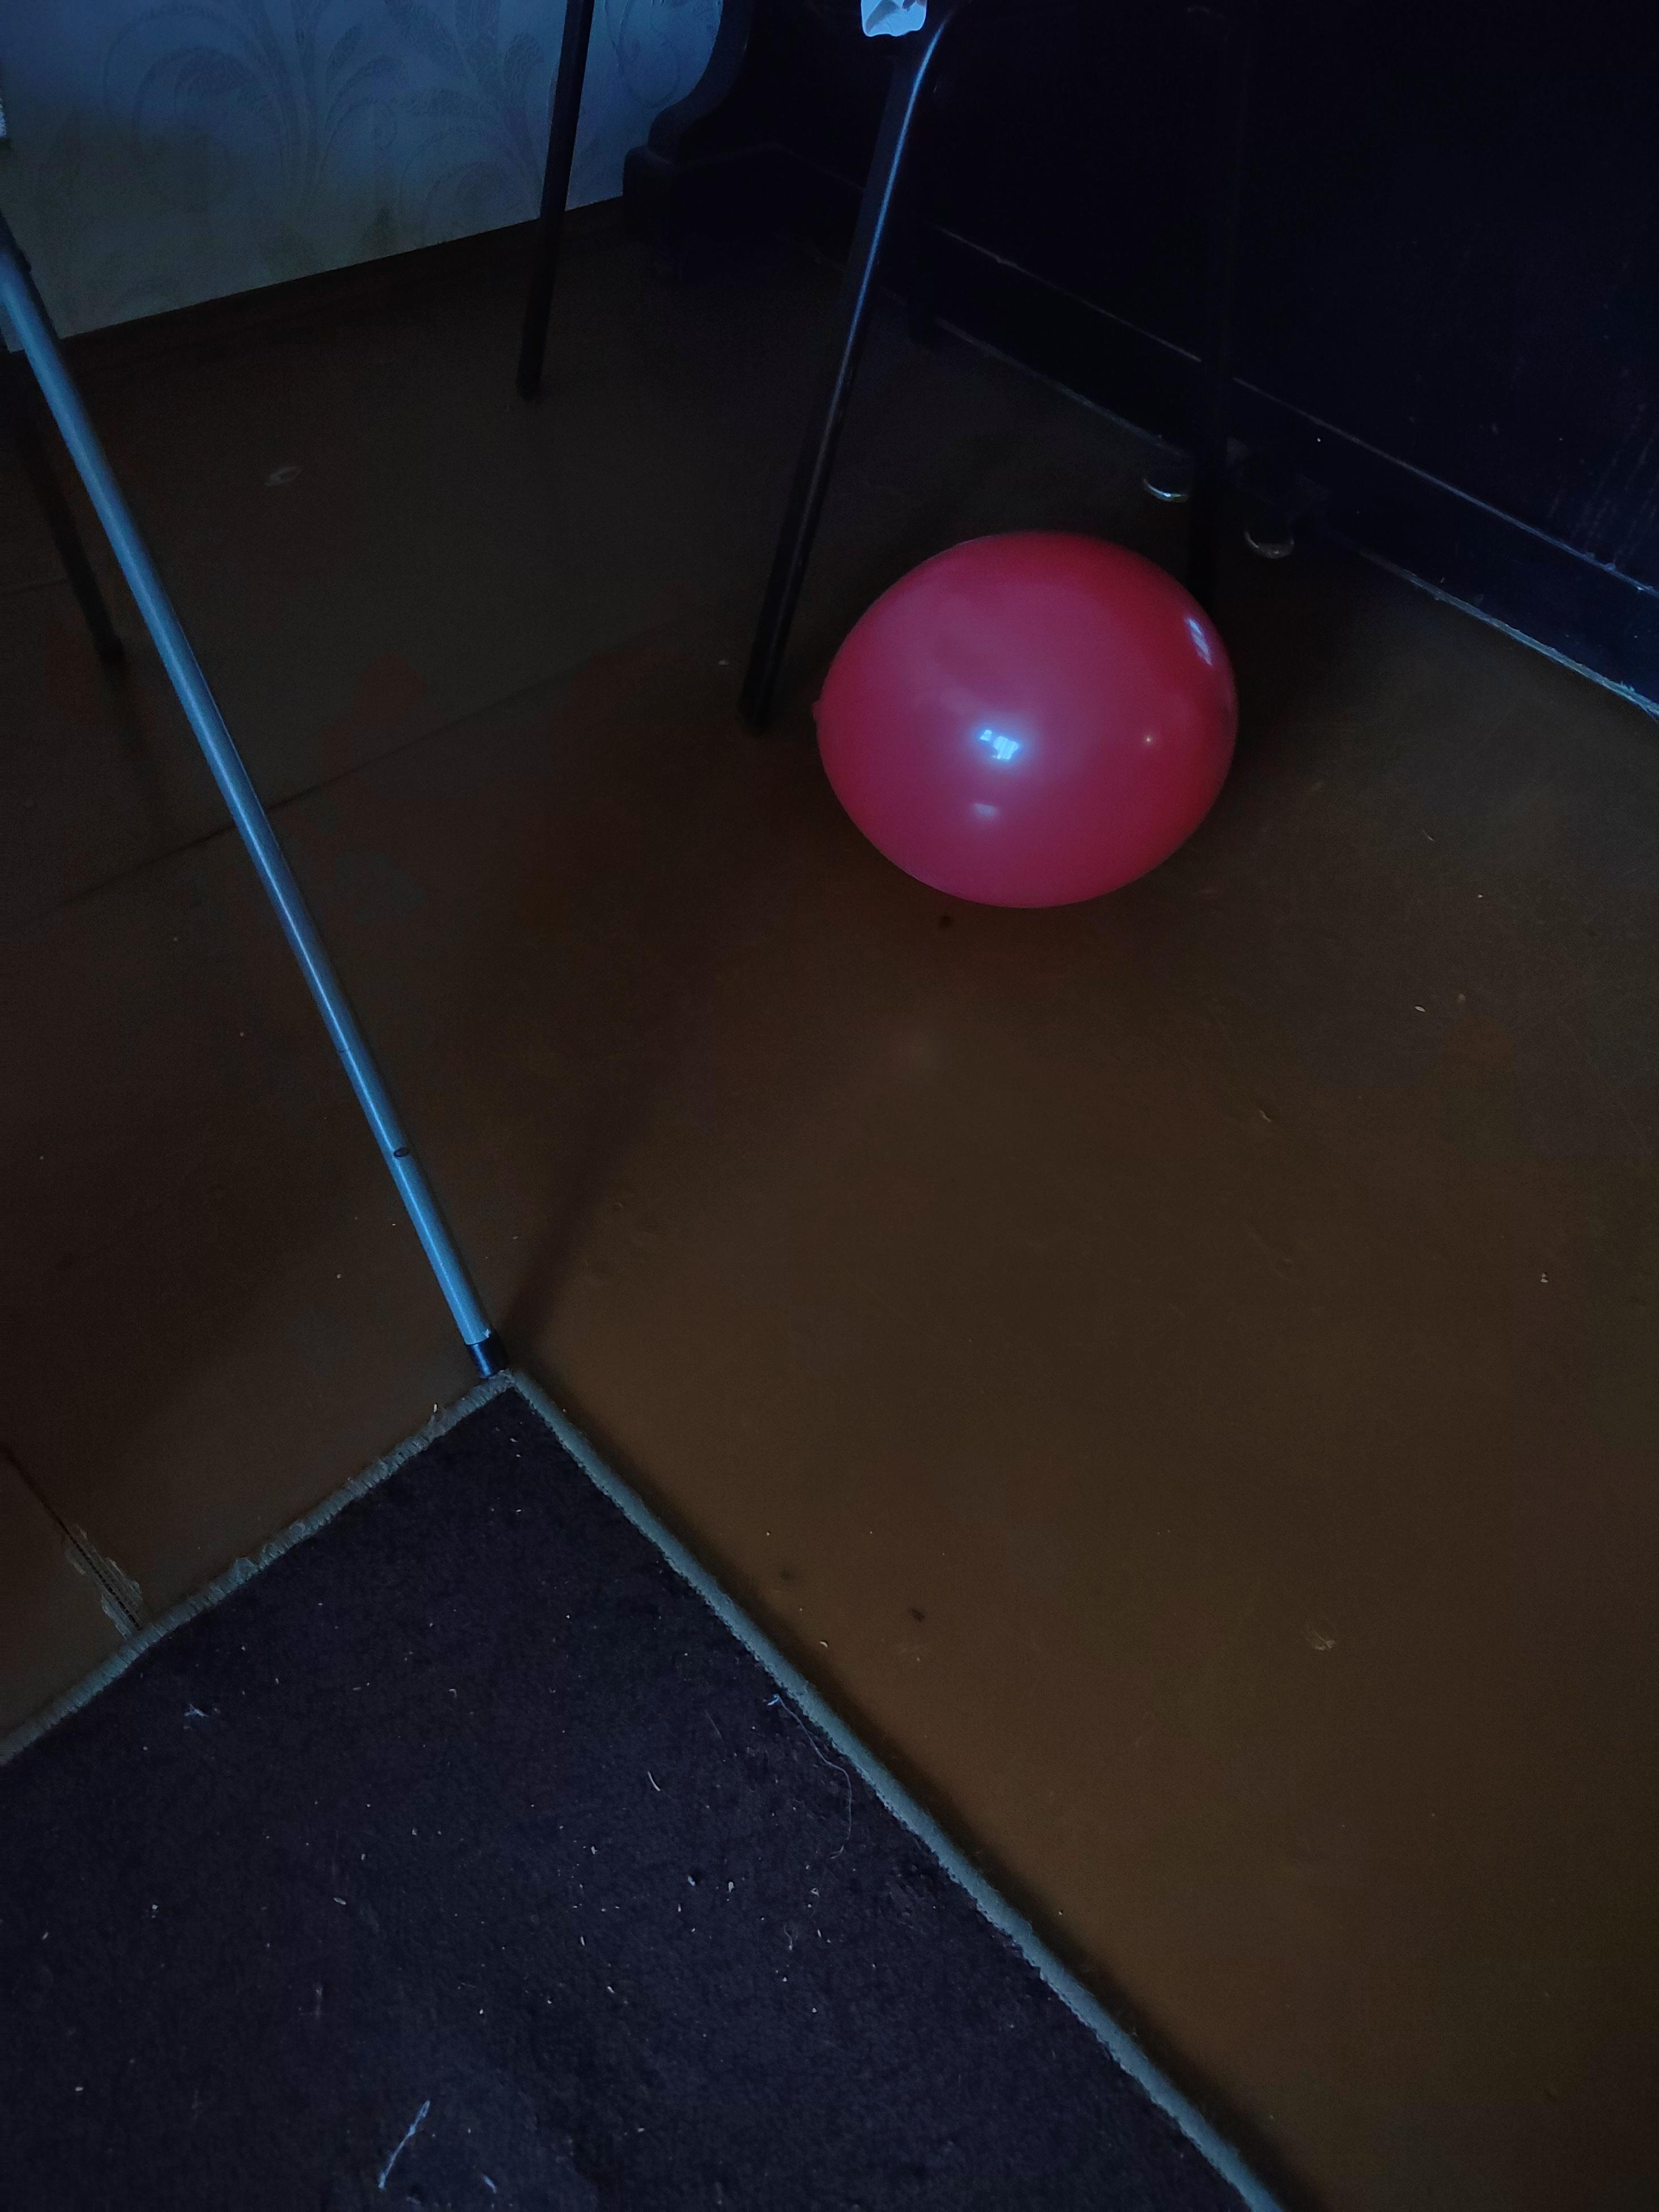red: (777, 510, 1256, 944)
